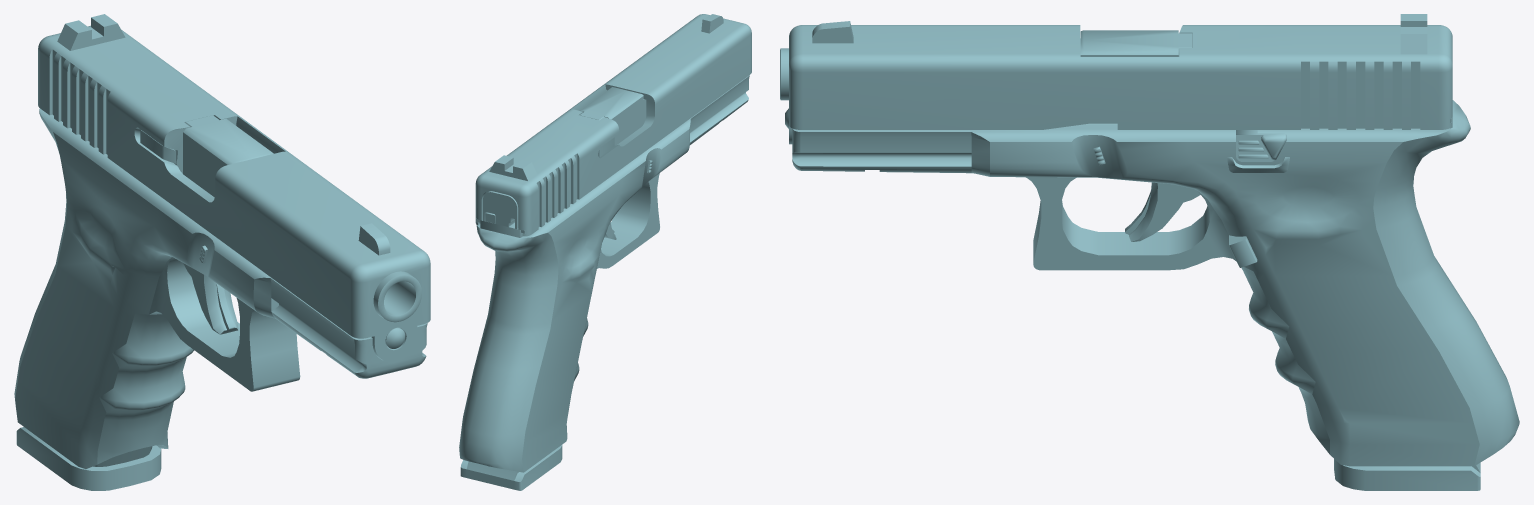
Rendered from WPN_Eder22.FBX.
3 renders of one model, left to right at view 1: azimuth 30°, elevation 25°; view 2: azimuth 150°, elevation 25°; view 3: azimuth 270°, elevation 25°, orthographic. The views are drawn at different scales.
Parts seen in each view (by area): view 1: WPN_Eder22, WPN_Eder22_slide, WPN_Eder22_barrel, WPN_Eder22_magazine, WPN_Eder22_trigger; view 2: WPN_Eder22, WPN_Eder22_slide, WPN_Eder22_barrel, WPN_Eder22_magazine; view 3: WPN_Eder22, WPN_Eder22_slide, WPN_Eder22_magazine, WPN_Eder22_barrel, WPN_Eder22_trigger.
Boxes of the visible parts, x1,y1,x2,y2 form: WPN_Eder22: (14, 108, 427, 468); WPN_Eder22_slide: (38, 14, 430, 362); WPN_Eder22_barrel: (183, 115, 421, 322); WPN_Eder22_magazine: (16, 427, 161, 490); WPN_Eder22_trigger: (183, 263, 238, 334); WPN_Eder22: (459, 75, 749, 472); WPN_Eder22_slide: (475, 14, 751, 236); WPN_Eder22_barrel: (580, 87, 646, 145); WPN_Eder22_magazine: (460, 445, 562, 490); WPN_Eder22: (792, 100, 1519, 466); WPN_Eder22_slide: (785, 14, 1452, 144); WPN_Eder22_magazine: (1334, 459, 1480, 490); WPN_Eder22_barrel: (780, 30, 1192, 100); WPN_Eder22_trigger: (1125, 182, 1200, 241).
Bounding box in the file's own units: 3.39 × 13.59 × 20.45.
